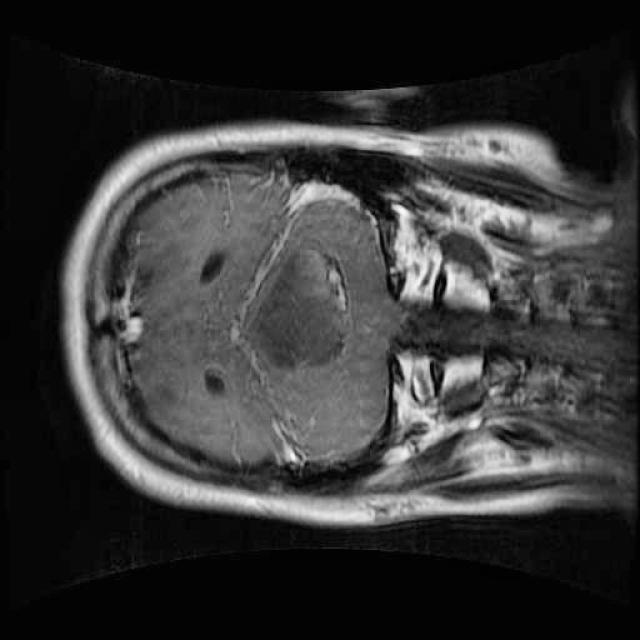Non-Tumor: (231, 216, 364, 388)
